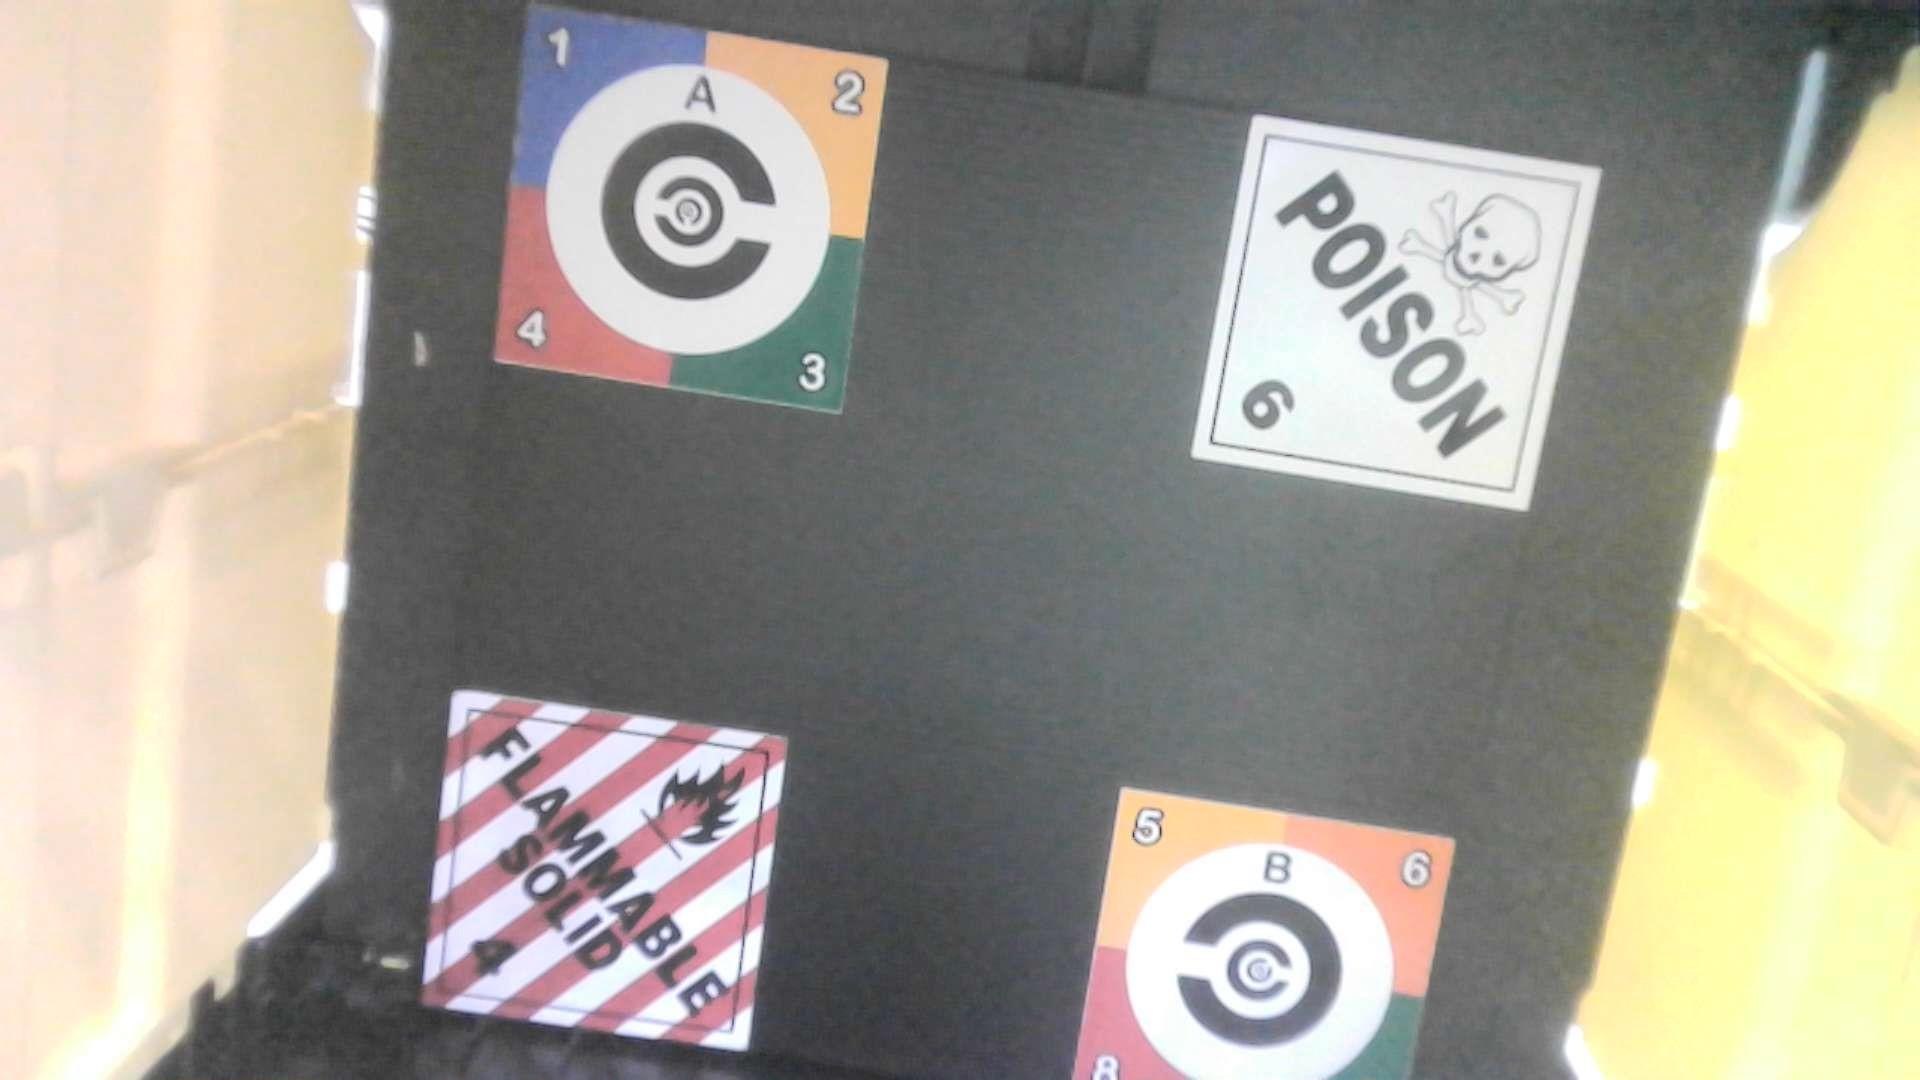flammable-solid: (409, 684, 806, 1054)
poison: (1189, 109, 1610, 520)
